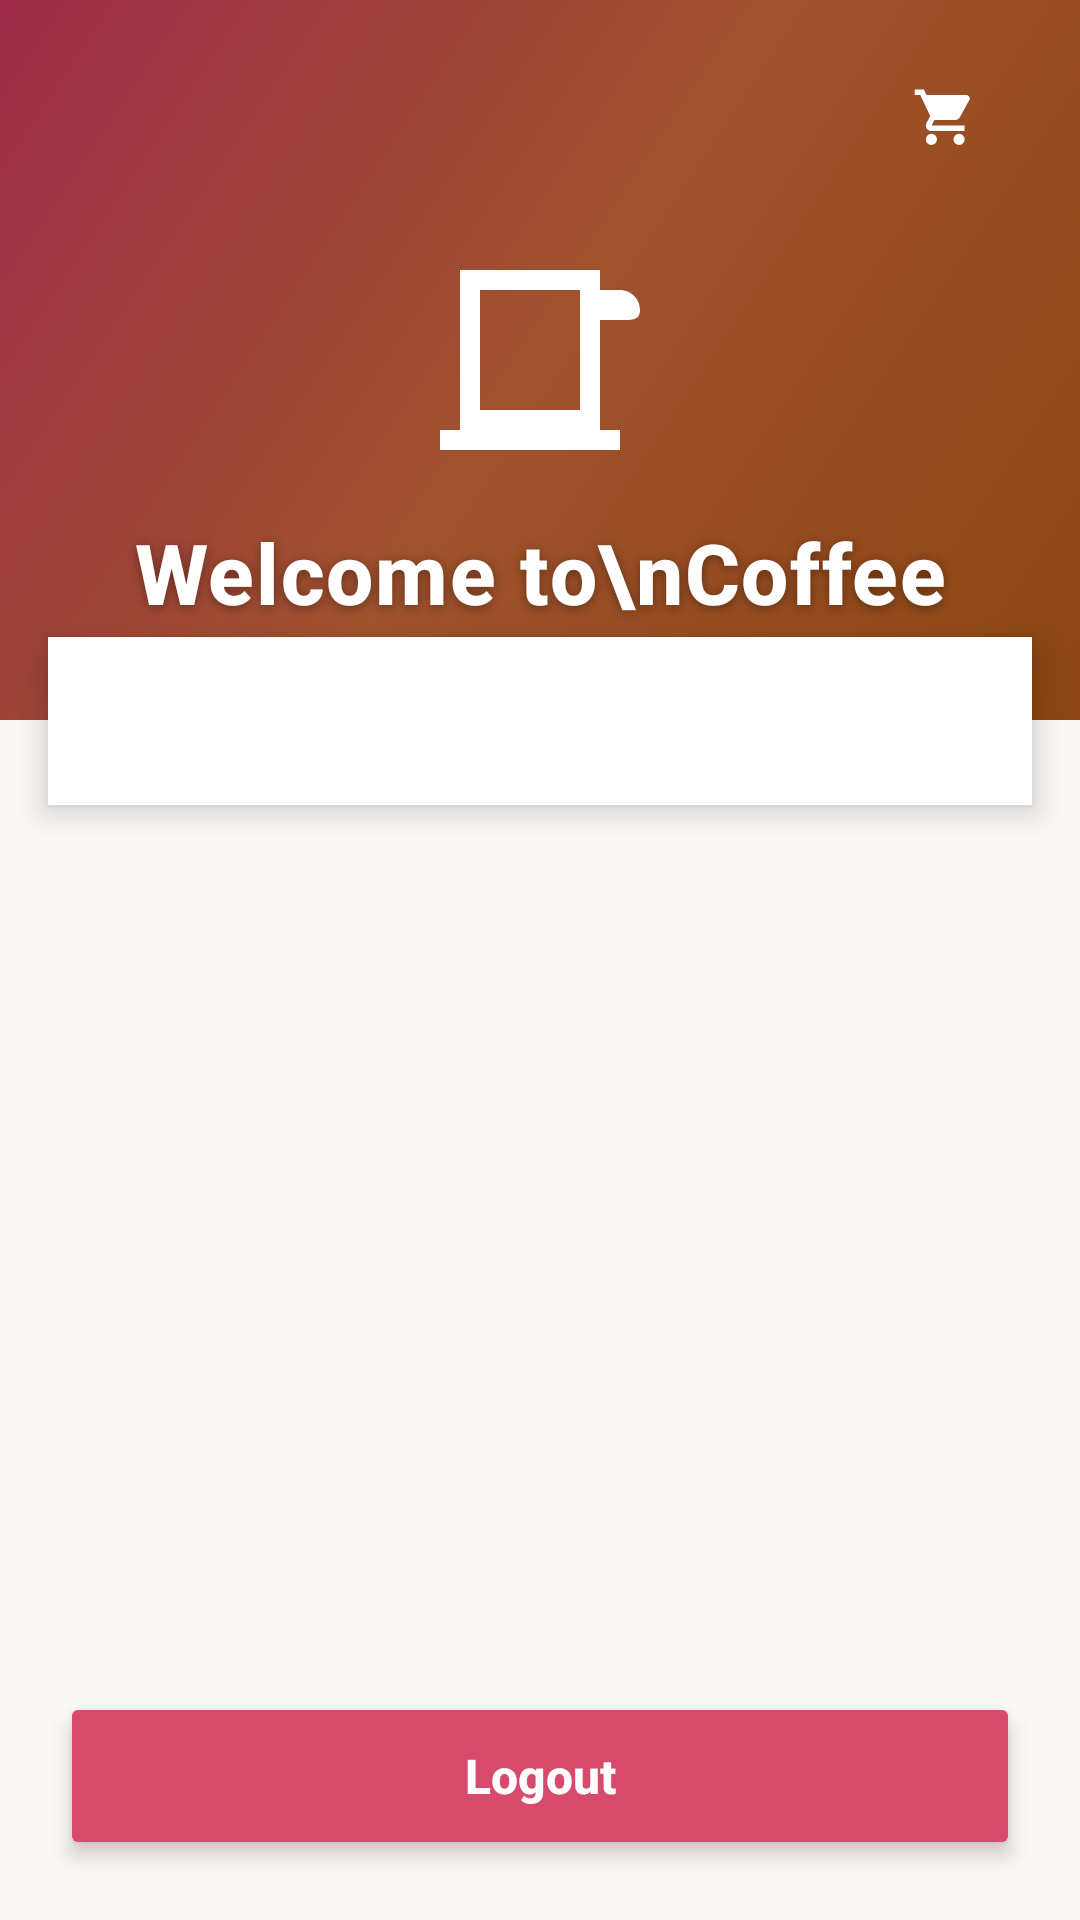

Screen size 1080px x 1920px. Icon name, then its center in pixels as (x,y):
Cart: (942,117)
Coffee Cup: (540,360)
